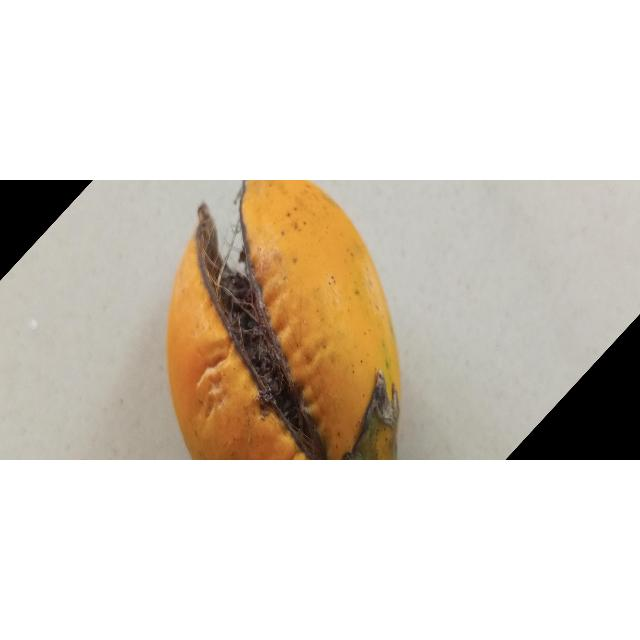damaged: (164, 180, 402, 461)
